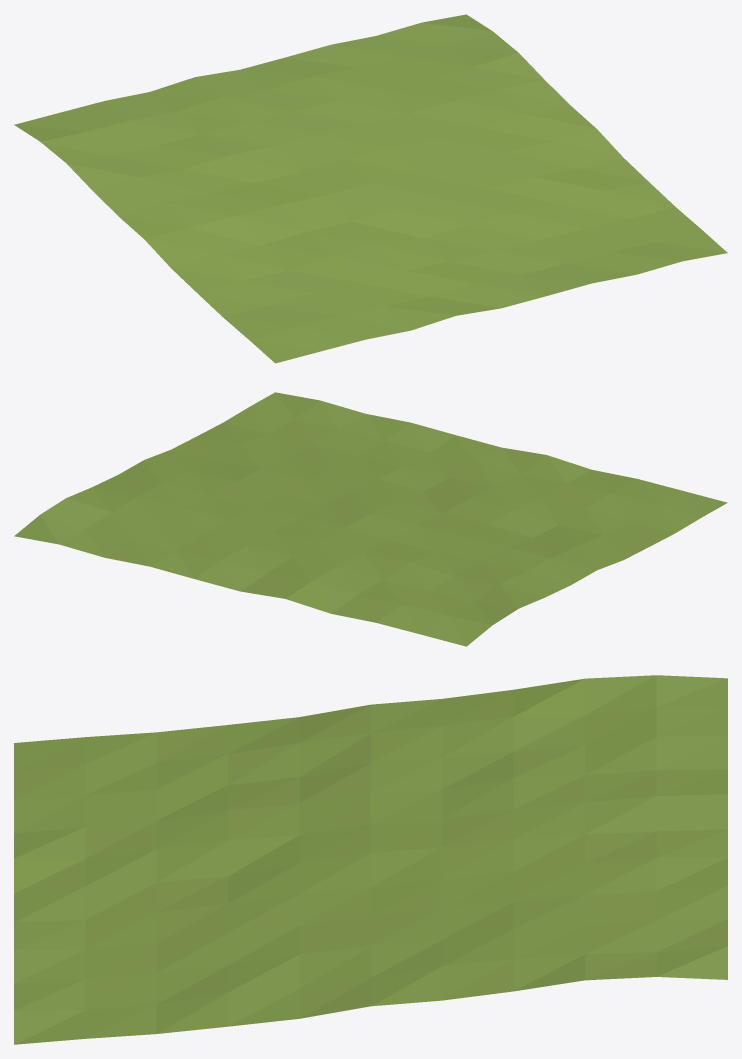
Rendered from terrain-plane_04-3.fbx.
The picture shows the model from 3 angles, top to bottom: view 1: azimuth 30°, elevation 25°; view 2: azimuth 150°, elevation 25°; view 3: azimuth 270°, elevation 25°; orthographic projection. The views are drawn at different scales.
Parts seen in each view (by area): view 1: terrain-plane_04-3; view 2: terrain-plane_04-3; view 3: terrain-plane_04-3.
Boxes of the visible parts, x1,y1,x2,y2 form: terrain-plane_04-3: (14,14,727,363); terrain-plane_04-3: (14,392,727,646); terrain-plane_04-3: (14,675,727,1044).
Size of the model in its own units: 2000 by 216 by 2000.
